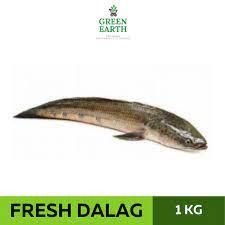Mudfish: (12, 98, 208, 151)
